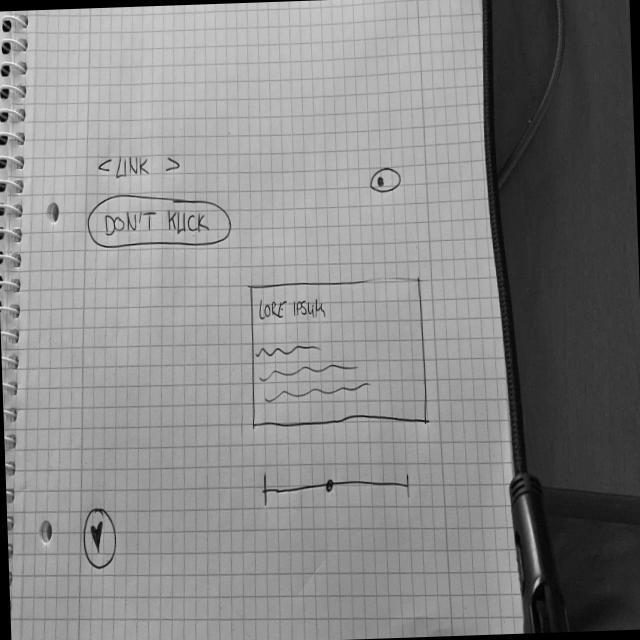button: (87, 190, 235, 254)
container: (247, 276, 434, 436)
icon-button: (82, 505, 119, 572)
label: (257, 291, 330, 326)
link: (97, 151, 182, 183)
slider: (260, 465, 414, 512)
textbox: (257, 341, 377, 407)
toggle: (369, 165, 402, 197)
